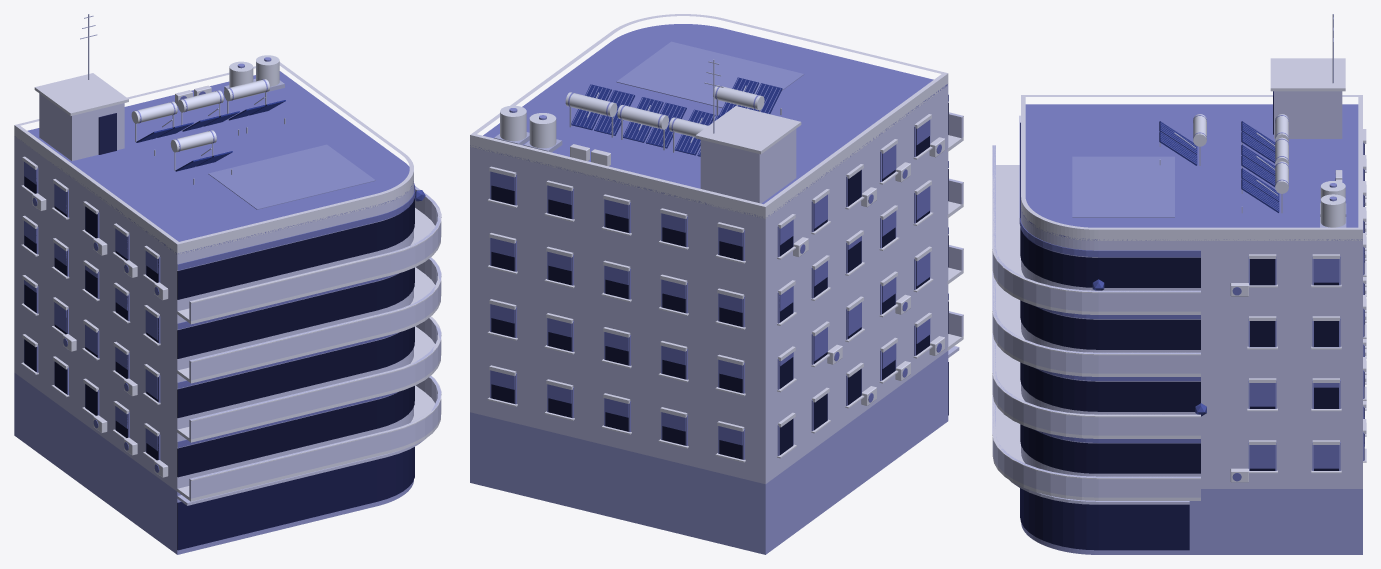
Rendered from blockA.glb.
3 renders of one model, left to right at view 1: azimuth 30°, elevation 25°; view 2: azimuth 150°, elevation 25°; view 3: azimuth 270°, elevation 25°, orthographic. The views are drawn at different scales.
Parts seen in each view (by area): view 1: baked2, baked4, baked8, baked5, baked0, baked1, baked6, baked13, baked11, baked3, baked10, baked12 (+1 smaller); view 2: baked2, baked0, baked8, baked5, baked6, baked4, baked3, baked13, baked10, baked11, baked12; view 3: baked2, baked8, baked4, baked5, baked0, baked1, baked13, baked6, baked3, baked10, baked11, baked12.
Part boxes in pixels (x1,y1,x2,y2): baked2: [14, 93, 441, 505]; baked4: [24, 176, 414, 477]; baked8: [15, 71, 413, 254]; baked5: [14, 62, 441, 501]; baked0: [14, 373, 413, 554]; baked1: [177, 447, 414, 550]; baked6: [24, 91, 415, 472]; baked13: [208, 144, 375, 209]; baked11: [131, 55, 279, 152]; baked3: [24, 57, 274, 459]; baked10: [136, 100, 285, 171]; baked12: [80, 14, 285, 184]; baked2: [470, 86, 963, 484]; baked0: [470, 351, 948, 554]; baked8: [470, 24, 947, 217]; baked5: [470, 14, 963, 462]; baked6: [491, 94, 948, 445]; baked4: [491, 102, 948, 459]; baked3: [490, 78, 930, 459]; baked13: [616, 41, 804, 108]; baked10: [571, 77, 782, 156]; baked11: [500, 85, 764, 148]; baked12: [494, 59, 781, 152]; baked2: [992, 91, 1362, 504]; baked8: [1022, 104, 1362, 240]; baked4: [1020, 122, 1364, 473]; baked5: [992, 58, 1366, 500]; baked0: [1021, 489, 1362, 554]; baked1: [1020, 488, 1189, 550]; baked13: [1072, 156, 1174, 217]; baked6: [1019, 116, 1364, 481]; baked3: [1160, 115, 1364, 470]; baked10: [1159, 121, 1279, 212]; baked11: [1193, 114, 1345, 227]; baked12: [1159, 14, 1346, 227].
Size of the model in its own units: 15.61 by 21.15 by 16.44.
